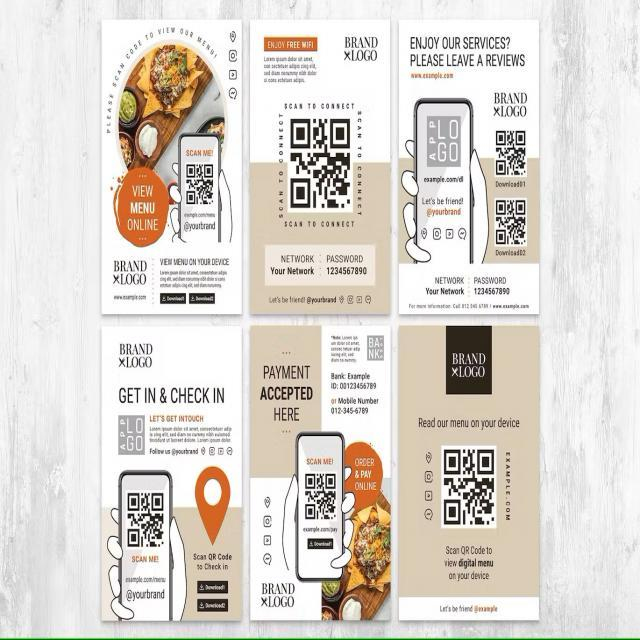qr_code: (290, 118, 351, 208), (443, 449, 495, 526), (127, 492, 164, 547), (304, 473, 337, 520), (495, 199, 526, 245), (495, 131, 526, 176), (185, 163, 214, 205)
